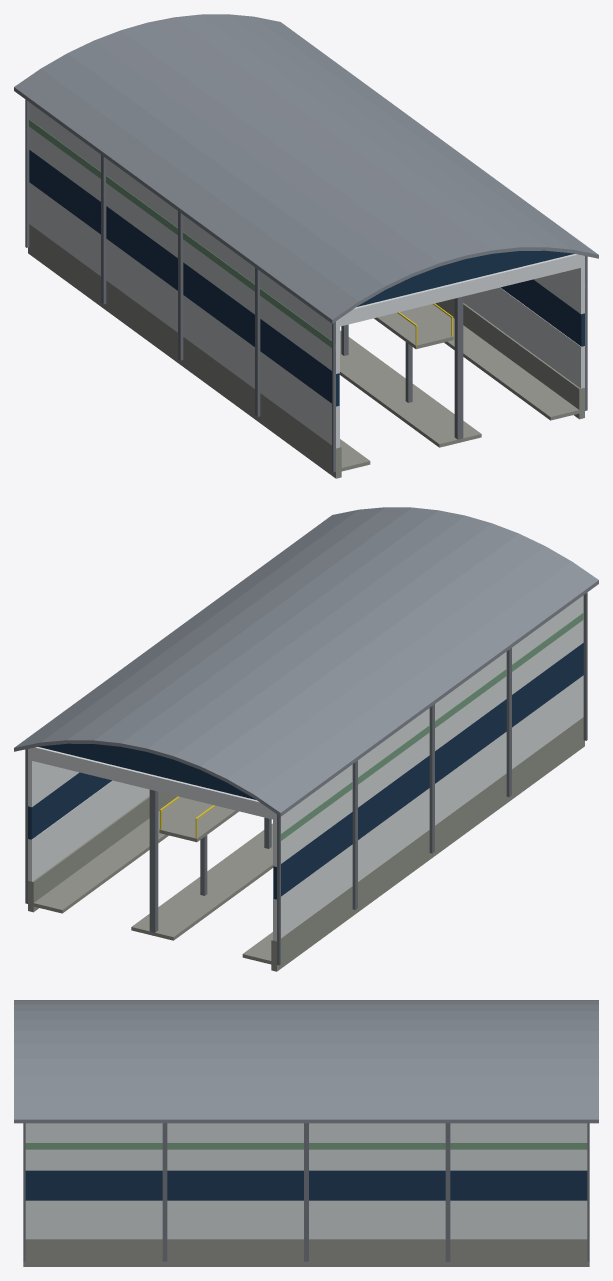
The model's file is yard_shed.fbx.
3 views of the same model, one above another, from view 1: azimuth 30°, elevation 25°; view 2: azimuth 150°, elevation 25°; view 3: azimuth 270°, elevation 25° (orthographic). The views are drawn at different scales.
Visible parts, largest first — view 1: a1065/0/yard_shed; view 2: a1065/0/yard_shed; view 3: a1065/0/yard_shed.
Part boxes in pixels (left/top/right/bottom): a1065/0/yard_shed: left=14, top=14, right=598, bottom=478; a1065/0/yard_shed: left=14, top=507, right=598, bottom=971; a1065/0/yard_shed: left=14, top=1000, right=598, bottom=1266.
Bounding box in the file's own units: 12 × 8.45 × 24.8.
